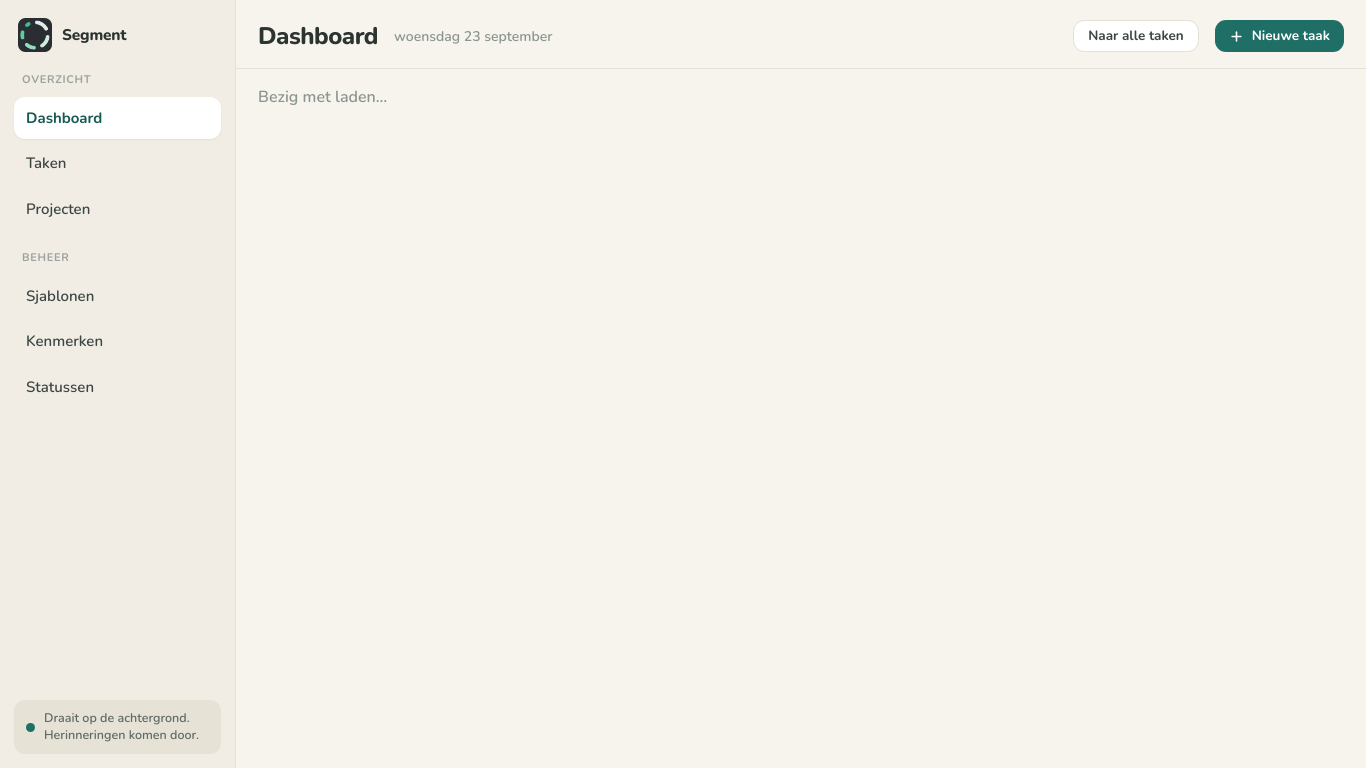
Scenario: bulkbalk (§1.4) › verschijnt bij selectie en verdwijnt bij 'Selectie wissen'
Click the link "Taken" at (46, 163), box [26,153,66,173]
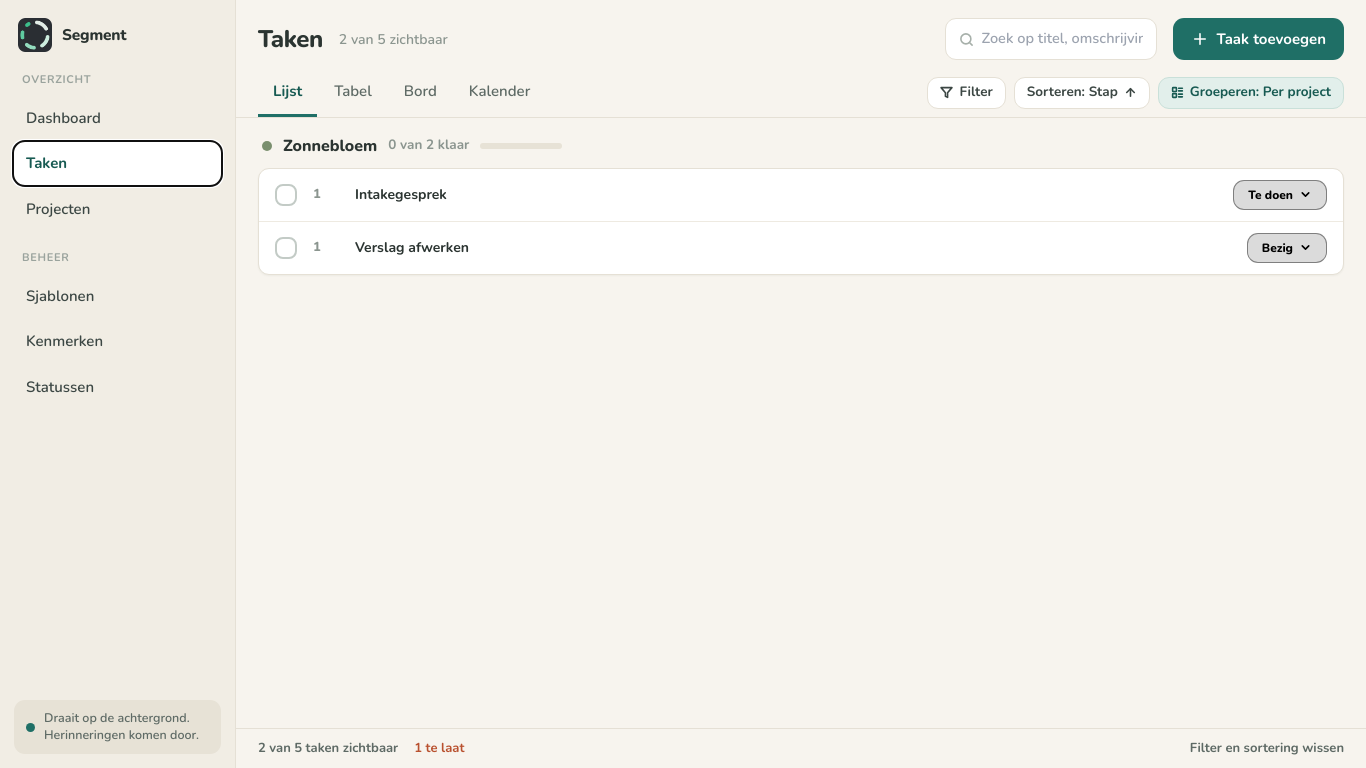
expect the heading "Taken" is shown: met, box [258,21,323,57]
Click the checkbox named "Taak selecteren" in the row of "Intakegesprek" at (286, 194), box [275,184,297,206]
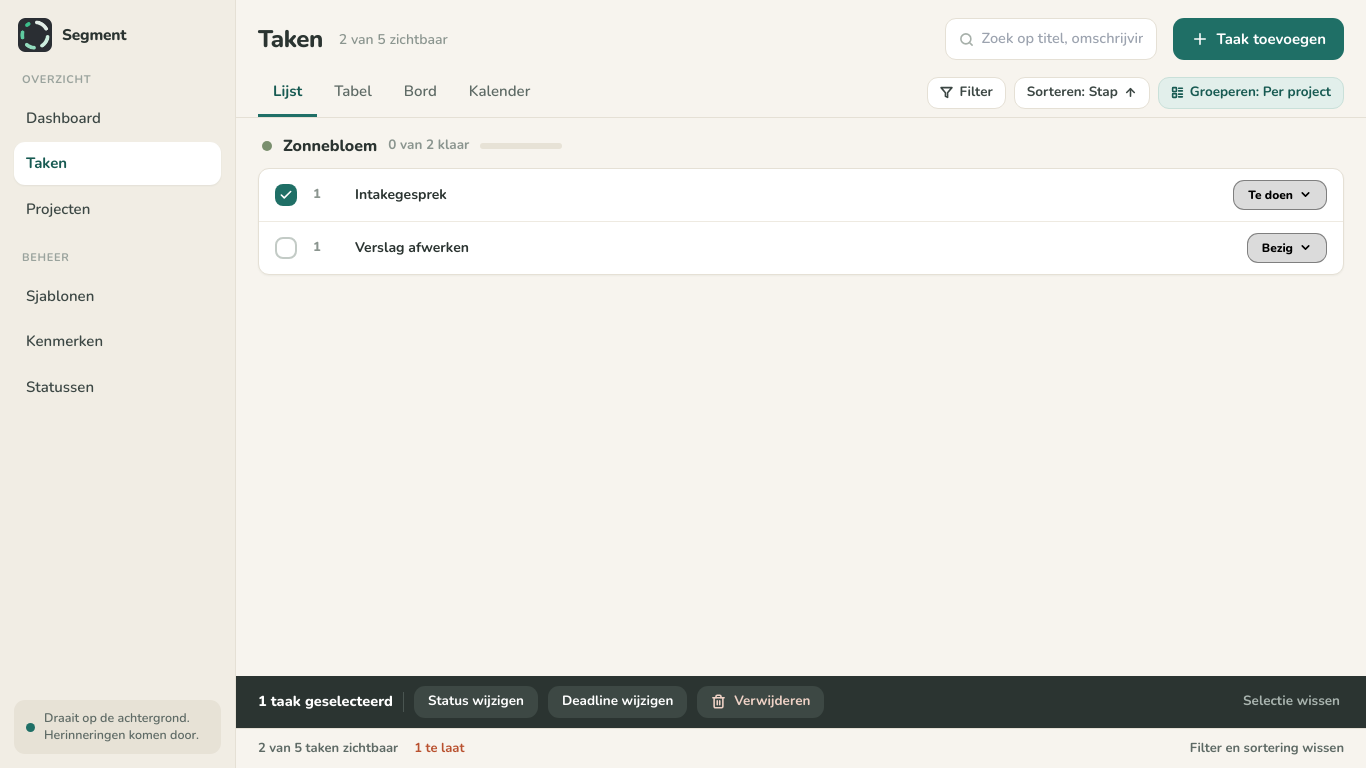
expect the text "1 taak geselecteerd" is shown: met, box [258,691,393,712]
expect the button "Status wijzigen" is shown: met, box [414,686,538,718]
expect the button "Deadline wijzigen" is shown: met, box [548,686,687,718]
Click the button "Selectie wissen" at (1292, 702), box [1239,686,1344,718]
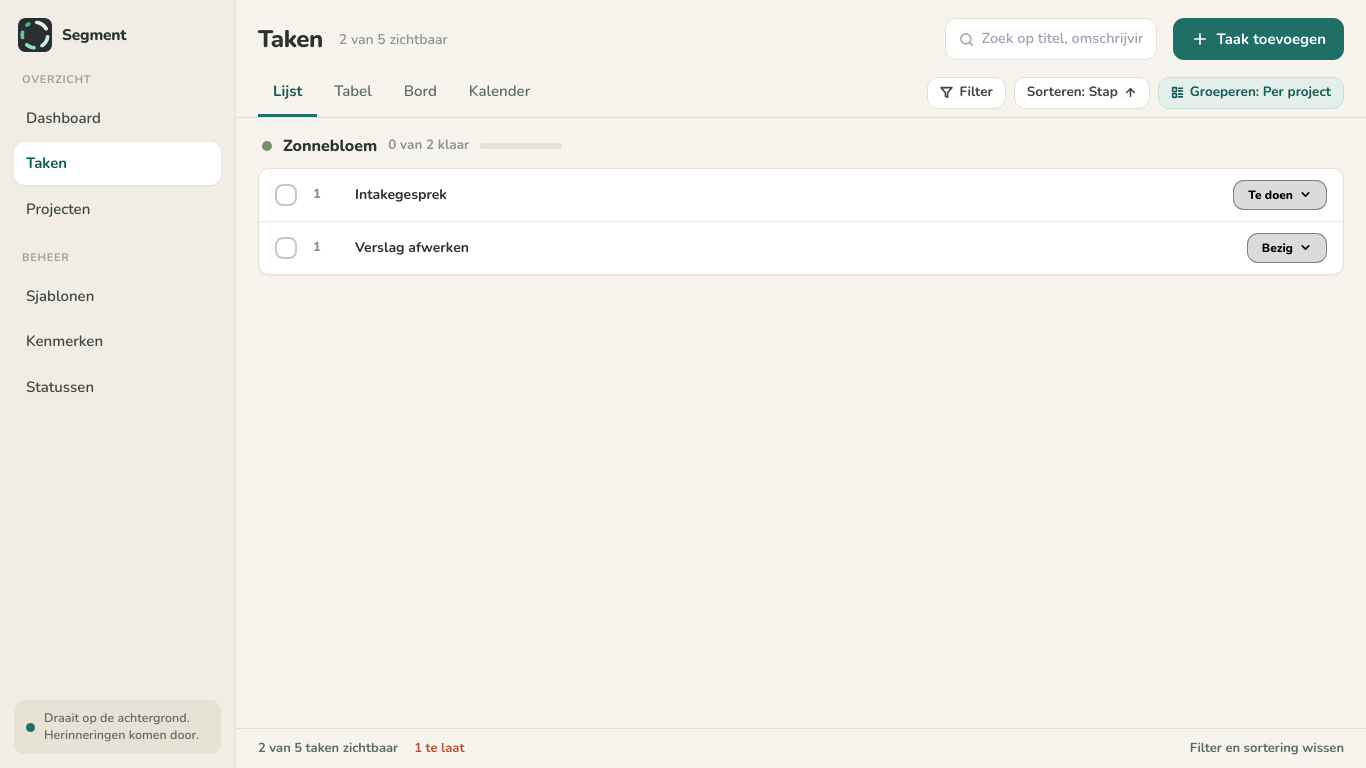
expect the text "1 taak geselecteerd" is gone: met
